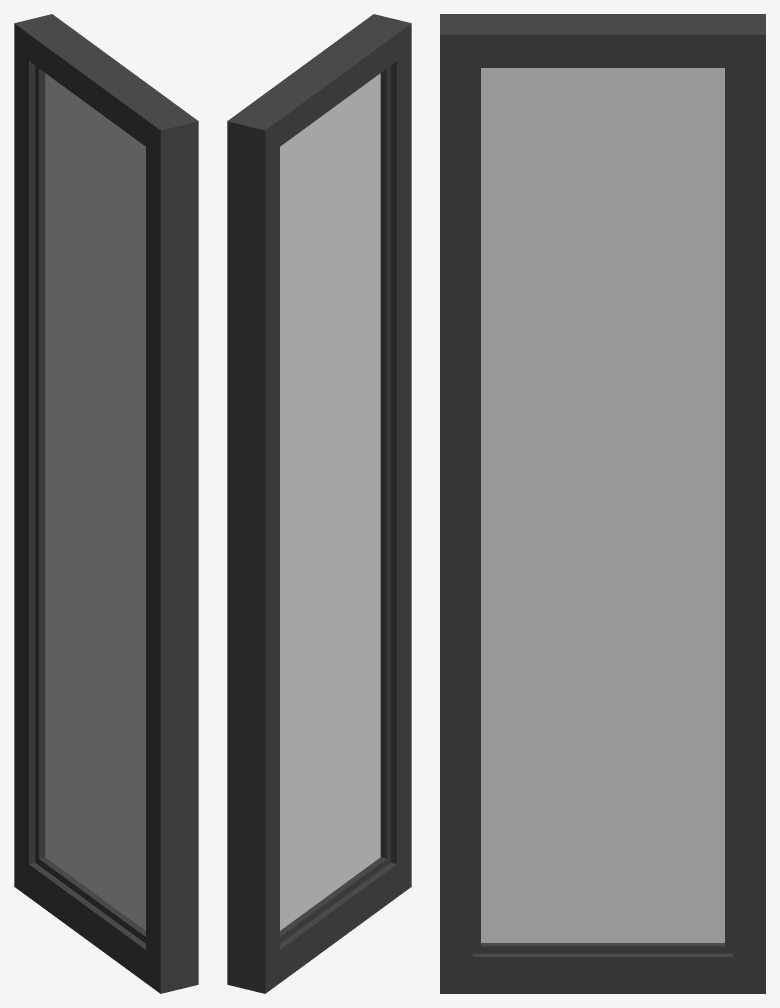
The model's file is wall_02_S_glass.glb.
3 renders of one model, left to right at view 1: azimuth 30°, elevation 25°; view 2: azimuth 150°, elevation 25°; view 3: azimuth 270°, elevation 25°, orthographic. The views are drawn at different scales.
Parts seen in each view (by area): view 1: Untitled.001, Untitled; view 2: Untitled.001, Untitled; view 3: Untitled, Untitled.001.
Boxes of the visible parts, bbox=[...] form: Untitled.001: bbox=[14, 14, 198, 993]; Untitled: bbox=[45, 73, 145, 930]; Untitled.001: bbox=[227, 14, 411, 993]; Untitled: bbox=[280, 73, 380, 930]; Untitled: bbox=[481, 68, 724, 942]; Untitled.001: bbox=[440, 14, 765, 993].
Size of the model in its own units: 0.18 by 3.9 by 1.2.
Materials: 2 (2 with a texture image).
